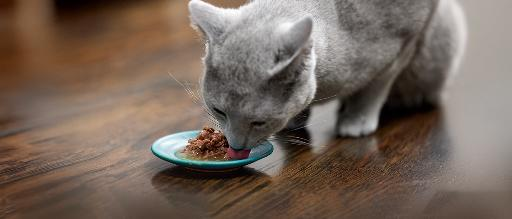cat_eating: (188, 0, 466, 170), (152, 130, 224, 168)
